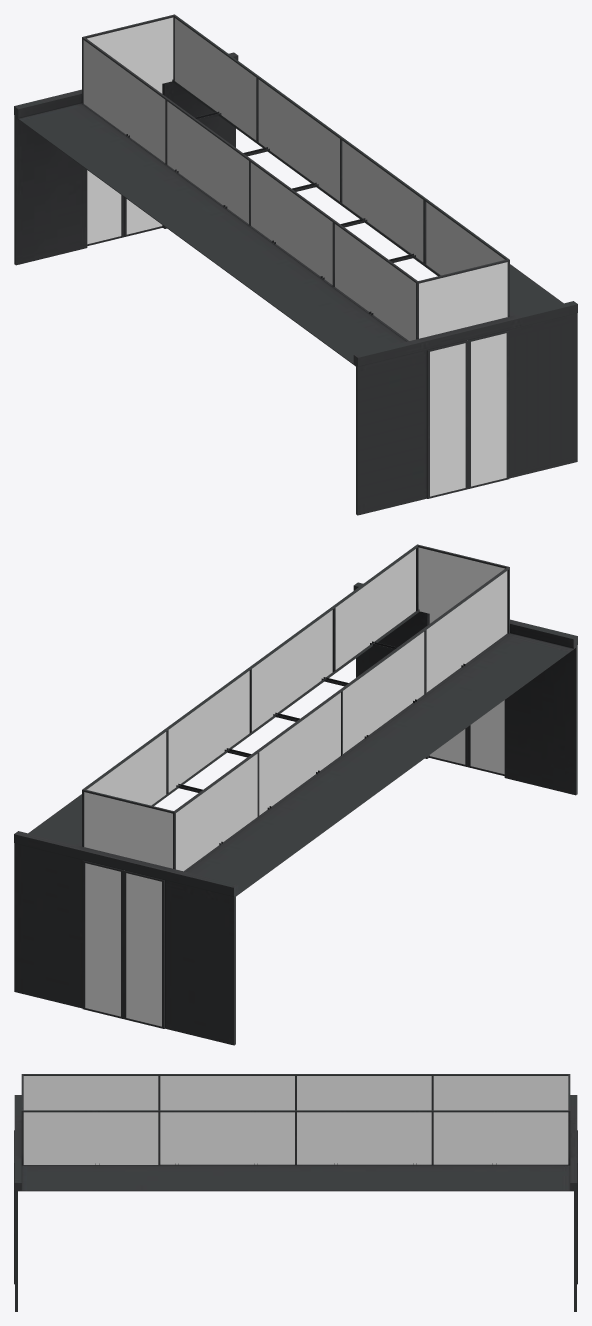
Rendered from containment.gltf.
3 renders of one model, top to bottom at view 1: azimuth 30°, elevation 25°; view 2: azimuth 150°, elevation 25°; view 3: azimuth 270°, elevation 25°, orthographic. The views are drawn at different scales.
Parts seen in each view (by area): view 1: containment, glass_A; view 2: containment, glass_A; view 3: glass_A, containment.
Part boxes in pixels (<box>): containment: <box>14,14,577,515</box>; glass_A: <box>83,17,507,496</box>; containment: <box>14,544,577,1045</box>; glass_A: <box>84,547,507,1026</box>; glass_A: <box>23,1076,568,1164</box>; containment: <box>14,1074,577,1311</box>.
Size of the model in its own units: 31.9 by 29.72 by 86.56.
Materials: 2 (2 with a texture image).
